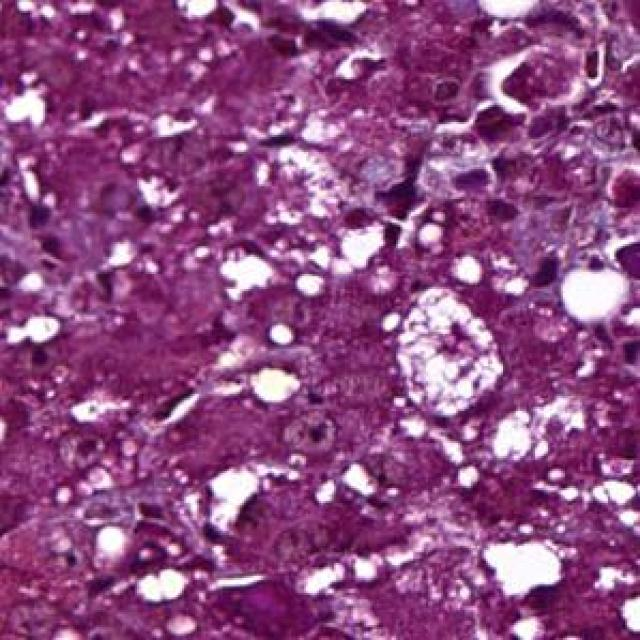ballooning: (396, 280, 503, 426)
